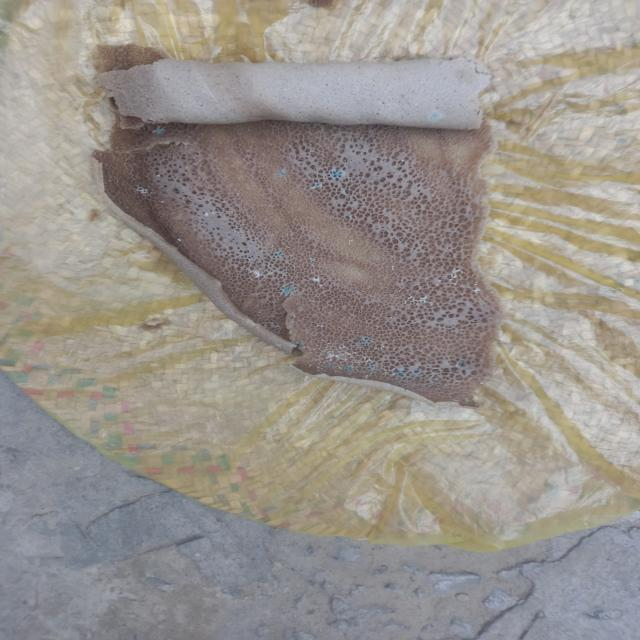injera_mold: (276, 282, 298, 296), (407, 294, 432, 306), (326, 351, 350, 361), (327, 168, 345, 180), (311, 275, 323, 288), (151, 125, 168, 134), (450, 268, 462, 280), (134, 186, 148, 196), (392, 368, 406, 378), (271, 250, 284, 260), (249, 269, 262, 279), (358, 337, 372, 346), (366, 363, 380, 372), (276, 168, 288, 178), (309, 182, 323, 190), (310, 255, 320, 265), (174, 236, 185, 244), (324, 364, 335, 371), (430, 112, 439, 120), (473, 287, 482, 295), (315, 323, 327, 329), (336, 344, 348, 350), (292, 342, 304, 348), (202, 211, 211, 218), (412, 369, 421, 376), (180, 196, 187, 204), (376, 345, 384, 352), (346, 365, 354, 371), (362, 374, 371, 379), (464, 272, 469, 281), (390, 265, 396, 272), (347, 239, 354, 245), (154, 173, 162, 178), (458, 362, 466, 367), (463, 398, 471, 403), (342, 190, 348, 196), (276, 343, 282, 348), (364, 360, 378, 362), (324, 347, 333, 350), (435, 283, 440, 288), (473, 281, 478, 286), (451, 282, 457, 286), (316, 366, 320, 372), (428, 358, 434, 362), (232, 229, 238, 233), (160, 200, 165, 204), (404, 346, 409, 350), (417, 287, 422, 291), (275, 324, 280, 328), (362, 356, 367, 360), (438, 278, 442, 283), (388, 316, 394, 319), (401, 159, 405, 163), (388, 332, 392, 336), (476, 348, 480, 352), (426, 283, 430, 287), (308, 364, 312, 368), (354, 350, 358, 354), (338, 366, 342, 370), (471, 273, 475, 277), (327, 342, 332, 345), (263, 324, 267, 327), (400, 279, 404, 282), (352, 338, 356, 341), (316, 344, 320, 347), (312, 348, 316, 351), (285, 246, 291, 248), (394, 313, 398, 316), (460, 284, 463, 288), (419, 349, 424, 351), (460, 293, 463, 296), (352, 344, 355, 347), (307, 345, 309, 349), (425, 278, 429, 280), (398, 290, 401, 292), (231, 290, 234, 292), (399, 364, 402, 366), (367, 348, 370, 350), (360, 307, 363, 309), (468, 286, 471, 288), (257, 294, 258, 296), (384, 340, 386, 341), (374, 349, 375, 350)
